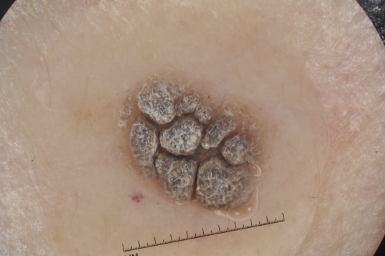seborrheic keratosis: (105, 66, 268, 216)
